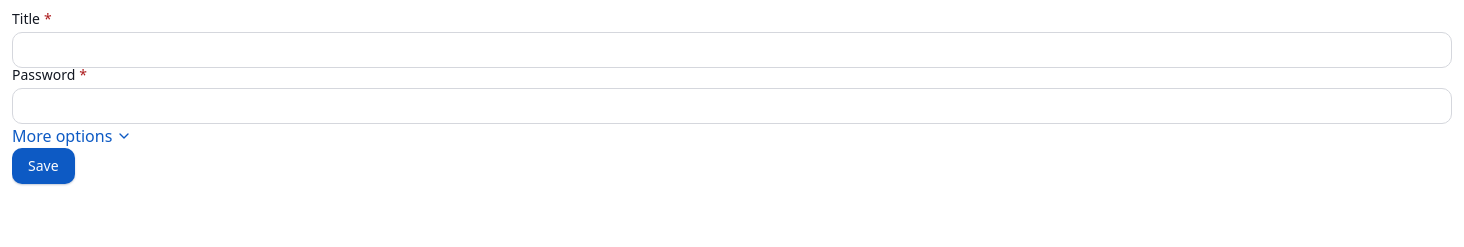
Test: form fields › shows translated, accessible errors and wires aria attributes
Click the button "Save". click: (43, 166)
box: [12,148,75,184]
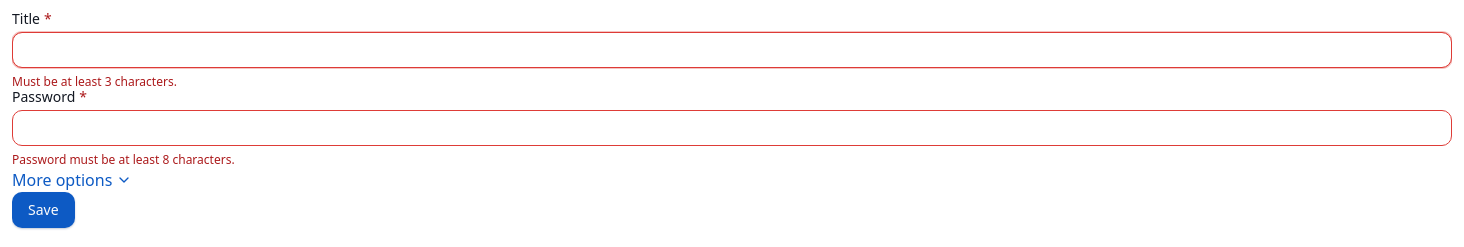
Now the text "Must be at least 3 characters." is shown, box [12,73,177,90]
Now the text "Password must be at least 8 characters." is shown, box [12,151,235,168]
